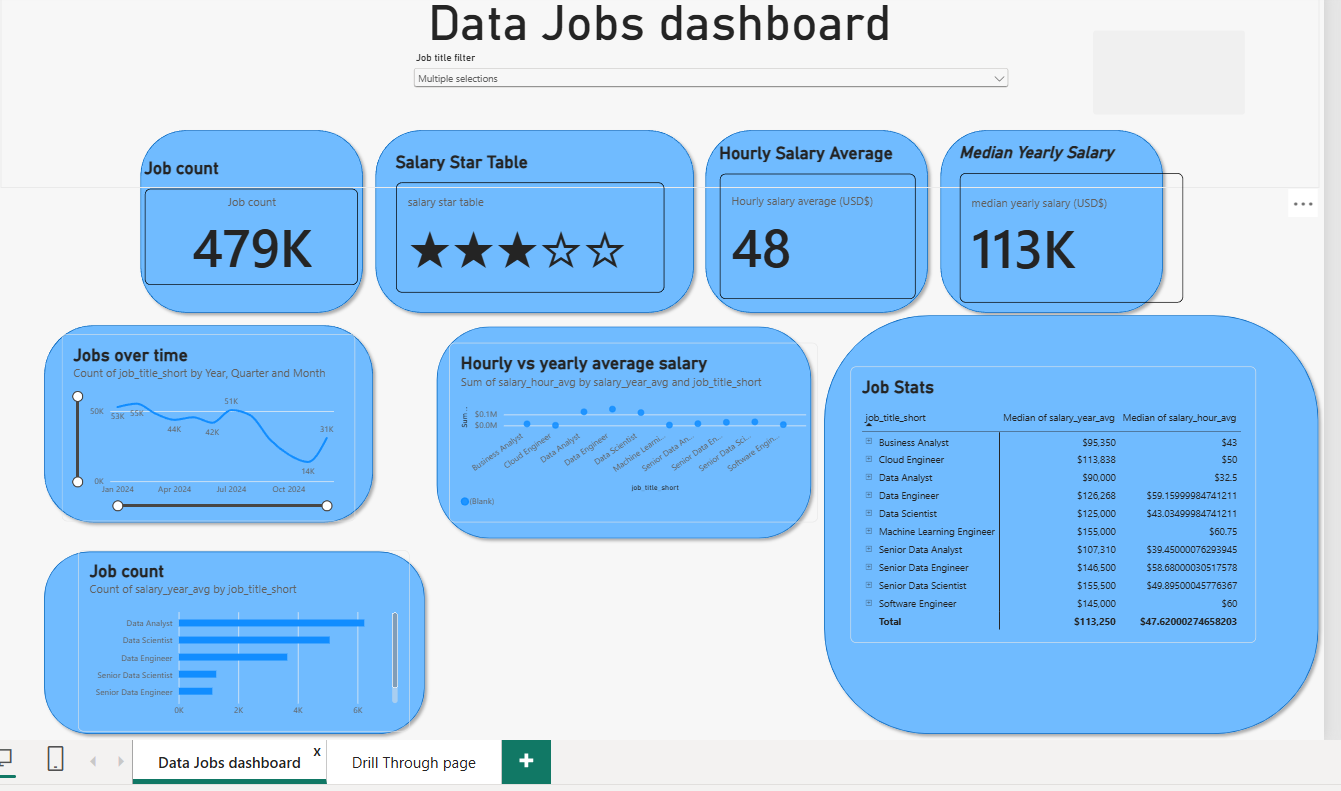

The page's visual inventory and layout, read from the dashboard file:
{"tool":"powerbi","page":{"name":"Data Jobs dashboard","canvas":[1920,1080],"ordinal":0},"visuals":[{"type":"group","id":"g1","title":"Background","box":[58.7,188.9,1862.3,891.6],"z":0},{"type":"textbox","title":"Data Jobs dashboard ","box":[10.2,17.9,1909.2,280.5],"z":1000},{"type":"slicer","fields":{"Values":["job_postings_flat.job_title_short"]},"box":[597.5,82.5,870.4,948.3],"z":2000},{"type":"cardVisual","title":"Median Yearly Salary","fields":{"Data":["Median(job_postings_flat.salary_year_avg)"]},"box":[1392.5,215,325,232.5],"z":3000},{"type":"cardVisual","title":"Hourly Salary Average ","fields":{"Data":["Median(job_postings_flat.salary_hour_avg)"]},"box":[1045,215,285,227.5],"z":4000},{"type":"cardVisual","title":"Salary Star Table","fields":{"Data":["job_postings_flat.salary star table "]},"box":[575,227.5,390,205],"z":5000},{"type":"cardVisual","title":"Job count","fields":{"Data":["CountNonNull(job_postings_flat.job_title_short)"]},"box":[212.5,237.5,310,185],"z":6000},{"type":"lineChart","title":"Jobs over time","fields":{"Category":["job_postings_flat.job_posted_date.Variation.Date Hierarchy.Year","job_postings_flat.job_posted_date.Variation.Date Hierarchy.Quarter","job_postings_flat.job_posted_date.Variation.Date Hierarchy.Month","job_postings_flat.job_posted_date.Variation.Date Hierarchy.Day"],"Y":["CountNonNull(job_postings_flat.job_title_short)"]},"box":[92.5,492.5,424.8,271.4],"z":7000},{"type":"clusteredBarChart","title":"Job count","fields":{"Category":["job_postings_flat.job_title_short"],"Y":["CountNonNull(job_postings_flat.salary_year_avg)"]},"box":[115,805,480,262.5],"z":8000},{"type":"scatterChart","title":"Hourly vs yearly average salary","fields":{"Series":["job_postings_flat.salary_year_avg"],"X":["job_postings_flat.job_title_short"],"Y":["Sum(job_postings_flat.salary_hour_avg)"]},"box":[653.2,505,533.8,260.2],"z":9000},{"type":"pivotTable","title":"Job Stats ","fields":{"Rows":["job_postings_flat.job_title_short","job_postings_flat.job_posted_date.Variation.Date Hierarchy.Quarter","job_postings_flat.job_posted_date.Variation.Date Hierarchy.Day"],"Values":["Median(job_postings_flat.salary_year_avg)","Median(job_postings_flat.salary_hour_avg)"]},"box":[1233.4,538.4,587.2,400.4],"z":10000},{"type":"actionButton","box":[1585,52.5,220,122.5],"z":11000},{"type":"shape","box":[197.7,188.9,340,282.2],"z":11000,"group":"g1"},{"type":"shape","box":[537.6,188.9,478.9,282.2],"z":12000,"group":"g1"},{"type":"shape","box":[1016.6,188.9,340,282.2],"z":13000,"group":"g1"},{"type":"shape","box":[1356.5,188.9,340,282.2],"z":14000,"group":"g1"},{"type":"shape","box":[58.7,471.1,493.9,303.6],"z":15000,"group":"g1"},{"type":"shape","box":[627.4,473.3,560.2,325],"z":16000,"group":"g1"},{"type":"shape","box":[1187.6,456.2,733.4,624.3],"z":17000,"group":"g1"},{"type":"shape","box":[58.7,798.3,568.7,282.2],"z":18000,"group":"g1"},{"type":"shape","box":[684.9,786.5,28.1,17.9],"z":19000,"group":"g1"}]}

Visuals, with their boxes in screenshot pixels (x1, y1, x2, y2):
"Background" group: pyautogui.locateOnScreen(37, 127, 1320, 741)
"Data Jobs dashboard " textbox: pyautogui.locateOnScreen(4, 9, 1319, 202)
slicer - job_postings_flat.job_title_short: pyautogui.locateOnScreen(408, 53, 1008, 707)
"Median Yearly Salary" cardVisual: pyautogui.locateOnScreen(956, 145, 1179, 305)
"Hourly Salary Average " cardVisual: pyautogui.locateOnScreen(716, 145, 913, 301)
"Salary Star Table" cardVisual: pyautogui.locateOnScreen(393, 153, 661, 294)
"Job count" cardVisual: pyautogui.locateOnScreen(143, 160, 356, 288)
"Jobs over time" lineChart: pyautogui.locateOnScreen(60, 336, 353, 523)
"Job count" clusteredBarChart: pyautogui.locateOnScreen(76, 551, 406, 732)
"Hourly vs yearly average salary" scatterChart: pyautogui.locateOnScreen(446, 344, 814, 524)
"Job Stats " pivotTable: pyautogui.locateOnScreen(846, 367, 1251, 643)
actionButton: pyautogui.locateOnScreen(1088, 33, 1240, 117)
shape: pyautogui.locateOnScreen(133, 127, 367, 321)
shape: pyautogui.locateOnScreen(367, 127, 697, 321)
shape: pyautogui.locateOnScreen(697, 127, 931, 321)
shape: pyautogui.locateOnScreen(931, 127, 1165, 321)
shape: pyautogui.locateOnScreen(37, 321, 377, 530)
shape: pyautogui.locateOnScreen(429, 323, 815, 546)
shape: pyautogui.locateOnScreen(815, 311, 1320, 741)
shape: pyautogui.locateOnScreen(37, 546, 429, 741)
shape: pyautogui.locateOnScreen(468, 538, 488, 551)
